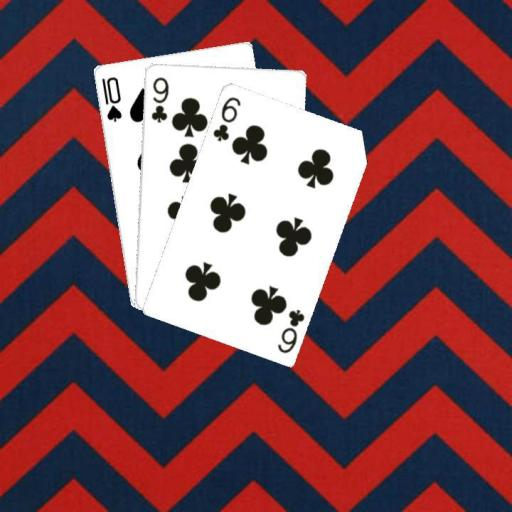10S: (97, 73, 123, 123)
6C: (209, 93, 243, 142), (274, 305, 306, 354)
9C: (147, 73, 170, 124)
